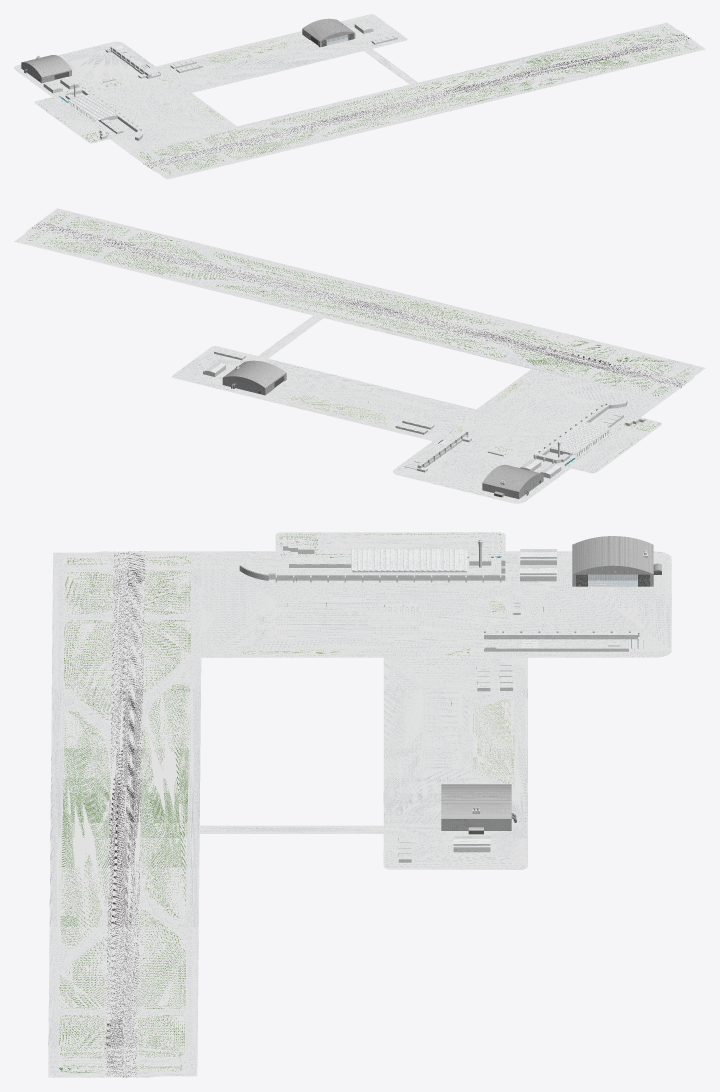
Rendered from TAK.glb.
3 renders of one model, top to bottom at view 1: azimuth 30°, elevation 25°; view 2: azimuth 150°, elevation 25°; view 3: azimuth 270°, elevation 25°, orthographic. The views are drawn at different scales.
Parts seen in each view (by area): view 1: ID2066-6, ID2066-7, ID219-25, ID219-25.001, ID219-13, ID219-13.001, ID325-3, ID219-0.001, ID219-0, ID2066-15, ID219-16.001, ID219-16 (+25 smaller); view 2: ID2066-6, ID2066-7, ID219-25.001, ID219-25, ID219-13.001, ID219-13, ID325-3, ID219-0.001, ID219-0, ID2066-15, ID219-16.001, ID219-16 (+20 smaller); view 3: ID2066-6, ID2066-7, ID219-25, ID219-25.001, ID219-13.001, ID219-13, ID325-3, ID219-0.001, ID219-0, ID2066-15, ID219-16, ID219-16.001 (+25 smaller).
Boxes of the visible parts, x1=… form: ID2066-6: x1=14, y1=14, x2=417, y2=152; ID2066-7: x1=14, y1=15, x2=416, y2=151; ID219-25: x1=128, y1=22, x2=683, y2=162; ID219-25.001: x1=151, y1=39, x2=705, y2=179; ID219-13: x1=268, y1=64, x2=510, y2=124; ID219-13.001: x1=323, y1=77, x2=566, y2=137; ID325-3: x1=34, y1=87, x2=142, y2=148; ID219-0.001: x1=147, y1=36, x2=690, y2=168; ID219-0: x1=142, y1=33, x2=686, y2=165; ID2066-15: x1=126, y1=92, x2=195, y2=126; ID219-16.001: x1=223, y1=127, x2=324, y2=159; ID219-16: x1=509, y1=42, x2=610, y2=74; ID2066-6: x1=172, y1=315, x2=662, y2=503; ID2066-7: x1=173, y1=316, x2=660, y2=503; ID219-25.001: x1=40, y1=208, x2=705, y2=381; ID219-25: x1=14, y1=228, x2=679, y2=401; ID219-13.001: x1=213, y1=251, x2=504, y2=325; ID219-13: x1=215, y1=284, x2=506, y2=358; ID325-3: x1=533, y1=401, x2=661, y2=473; ID219-0.001: x1=35, y1=221, x2=688, y2=384; ID219-0: x1=31, y1=224, x2=684, y2=388; ID2066-15: x1=493, y1=392, x2=577, y2=433; ID219-16.001: x1=482, y1=329, x2=616, y2=359; ID219-16: x1=103, y1=250, x2=238, y2=280; ID2066-6: x1=200, y1=551, x2=671, y2=869; ID2066-7: x1=200, y1=551, x2=671, y2=869; ID219-25: x1=136, y1=551, x2=201, y2=1077; ID219-25.001: x1=48, y1=551, x2=113, y2=1077; ID219-13.001: x1=60, y1=711, x2=110, y2=945; ID219-13: x1=140, y1=683, x2=190, y2=918; ID325-3: x1=218, y1=532, x2=505, y2=582; ID219-0.001: x1=105, y1=551, x2=128, y2=1077; ID219-0: x1=122, y1=551, x2=145, y2=1077; ID2066-15: x1=276, y1=600, x2=418, y2=636; ID219-16: x1=137, y1=909, x2=186, y2=1009; ID219-16.001: x1=64, y1=620, x2=112, y2=720.
Bounding box in the file's own units: 2222 × 51.82 × 1074.
44 materials, 23 textured.
